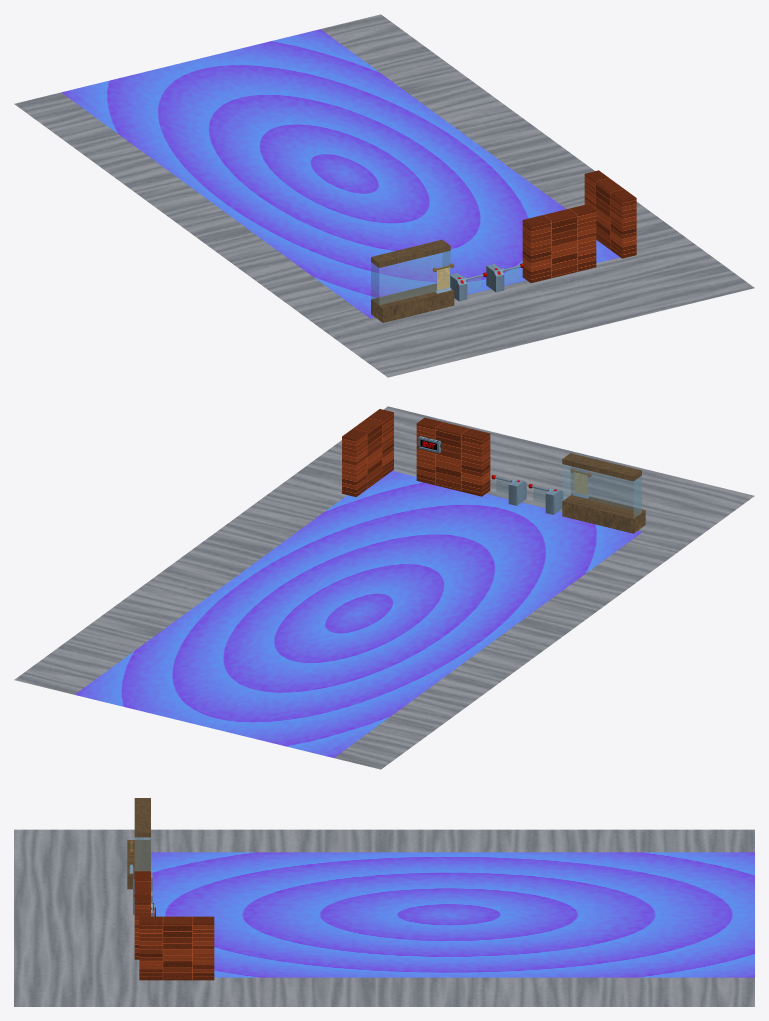
The model's file is museum_2.glb.
3 views of the same model, one above another, from view 1: azimuth 30°, elevation 25°; view 2: azimuth 150°, elevation 25°; view 3: azimuth 270°, elevation 25° (orthographic).
Parts seen in each view (by area): view 1: rug, floor_street, wall, wall_sides, ticket_shop_building, ticket_shop_glass; view 2: rug, floor_street, wall, wall_sides, ticket_shop_building, ticket_shop_glass; view 3: rug, floor_street, wall_sides, ticket_shop_building, wall, ticket_shop_glass.
Boxes of the visible parts, x1,y1,x2,y2 form: rug: (61, 29, 620, 318); floor_street: (14, 14, 754, 377); wall: (522, 204, 596, 283); wall_sides: (584, 170, 636, 258); ticket_shop_building: (371, 239, 454, 322); ticket_shop_glass: (371, 251, 450, 304); rug: (75, 471, 642, 757); floor_street: (14, 406, 754, 769); wall: (416, 417, 490, 496); wall_sides: (342, 409, 393, 496); ticket_shop_building: (562, 453, 645, 533); ticket_shop_glass: (562, 464, 641, 517); rug: (151, 852, 754, 977); floor_street: (14, 829, 754, 1006); wall_sides: (139, 916, 214, 980); ticket_shop_building: (127, 798, 150, 889); wall: (134, 871, 150, 959); ticket_shop_glass: (134, 837, 150, 870).
Bounding box in the file's own units: 51.45 × 7.67 × 90.81.
Materials: 12 (6 with a texture image).
